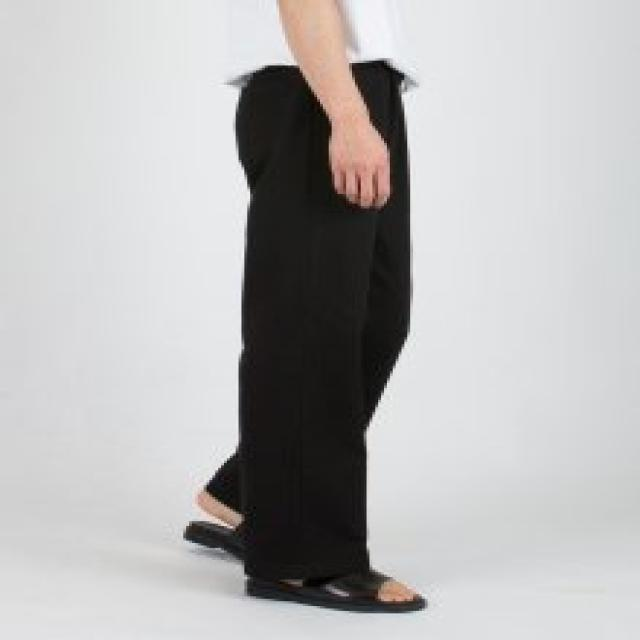long-pants: (210, 59, 411, 583)
